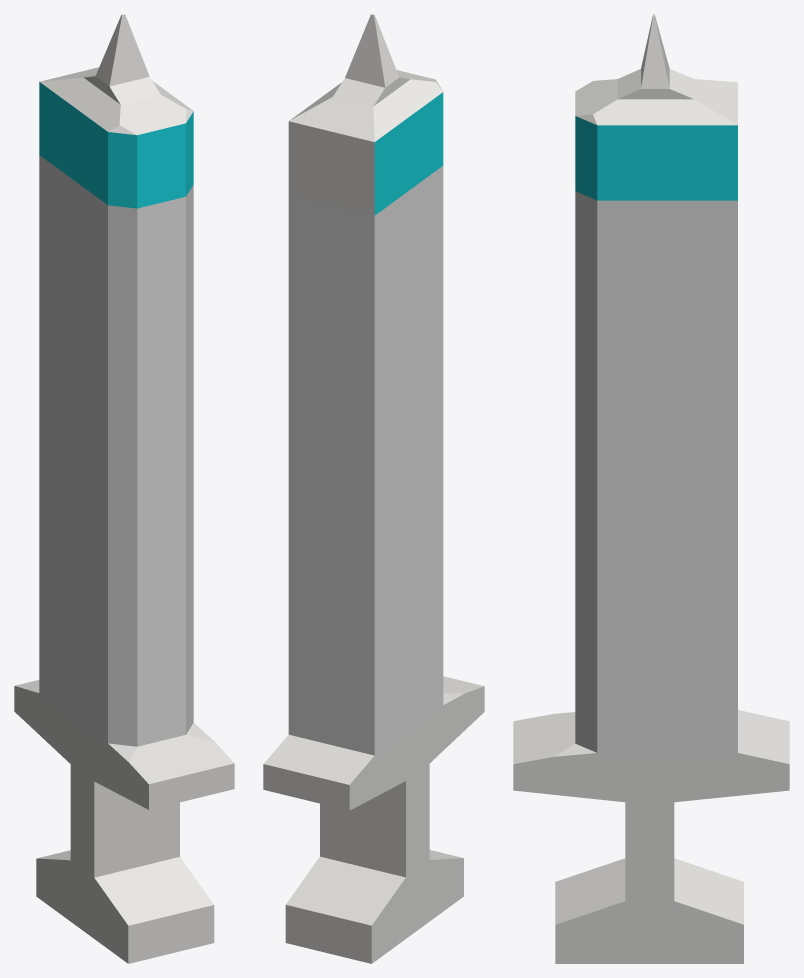
The model's file is Adrenaline.fbx.
3 renders of one model, left to right at view 1: azimuth 30°, elevation 25°; view 2: azimuth 150°, elevation 25°; view 3: azimuth 270°, elevation 25°, orthographic. The views are drawn at different scales.
Parts seen in each view (by area): view 1: Cube; view 2: Cube; view 3: Cube.
Boxes of the visible parts, bbox=[...] form: Cube: bbox=[14, 14, 234, 963]; Cube: bbox=[263, 14, 484, 963]; Cube: bbox=[513, 14, 789, 963].
Bounding box in the file's own units: 41.43 × 417 × 113.
